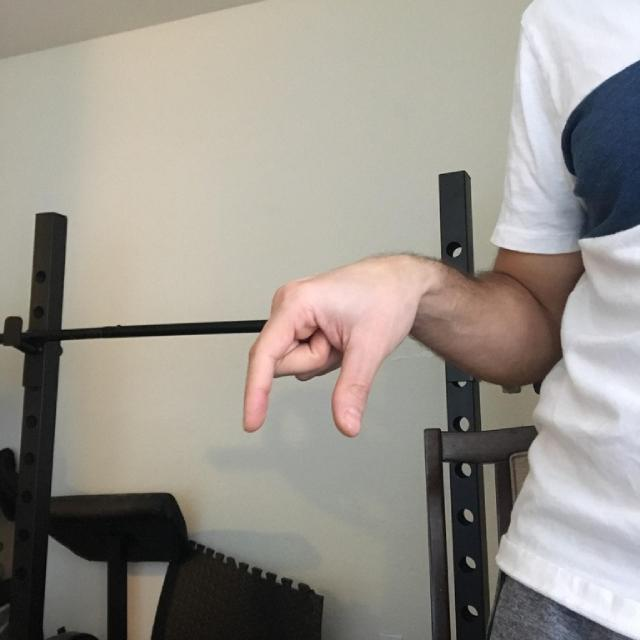Q: (204, 197, 526, 458)
